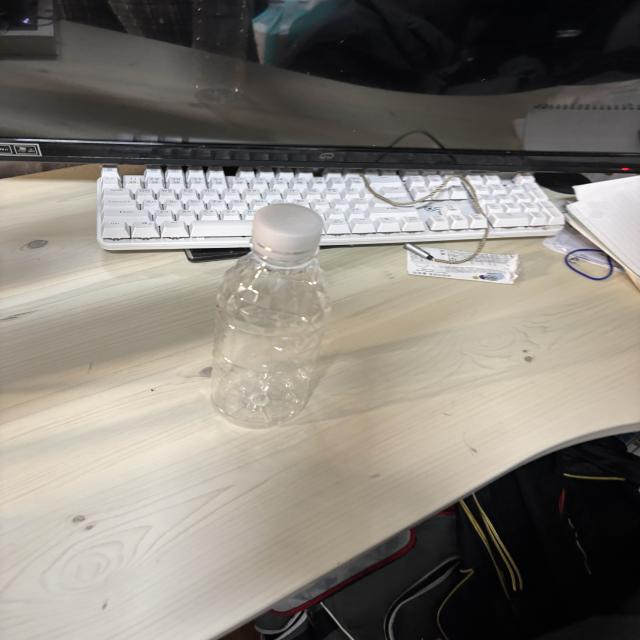Plastic: (191, 205, 356, 433)
